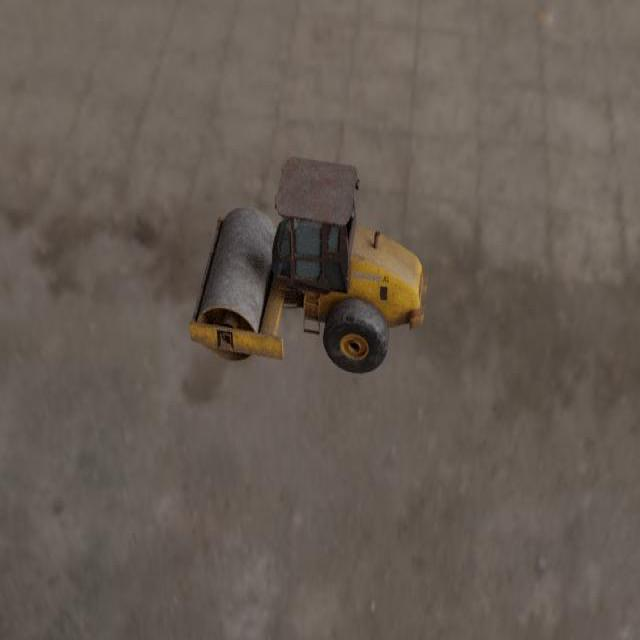Roller: (188, 155, 427, 373)
